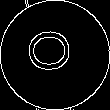O_E: (28, 32, 82, 78)
